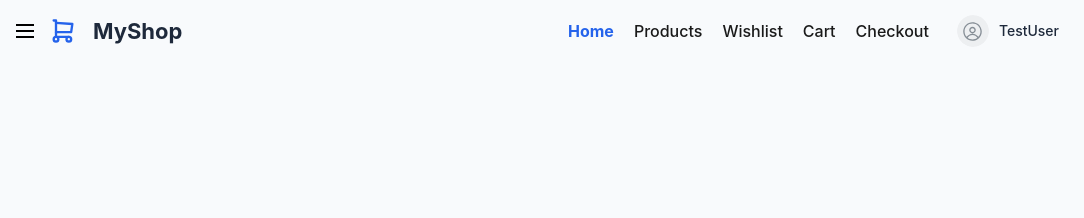
Test: <Header /> › renders logout menu item when user is authenticated
Click the text "TestUser" at (1029, 31), box x1=999 y1=21 x2=1059 y2=41
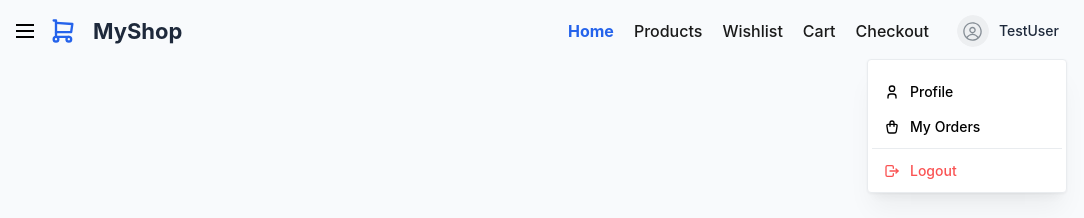
Check: the text "Logout" is shown, box x1=910 y1=162 x2=957 y2=179
